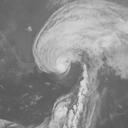cyclone: (31, 3, 127, 126)
